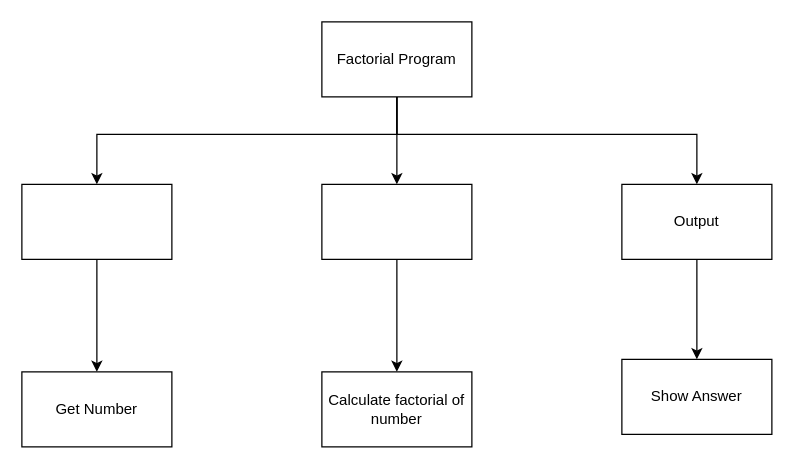
Some shapes in this 794 by 469 pixel diagram are drawn without their labels. Here are the shapes that lost their labels. From the top down, the centre of each, then its label:
[96,221]: Input
[396,221]: Process
